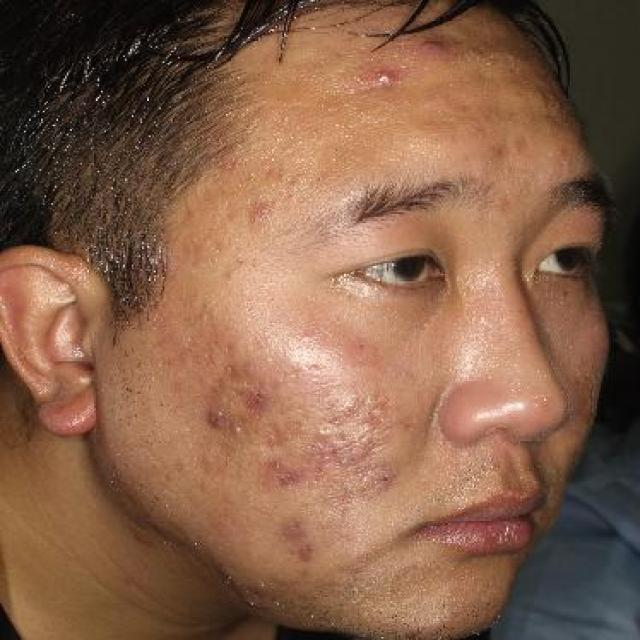papules: (416, 34, 460, 68), (368, 62, 411, 88), (202, 403, 234, 434)
